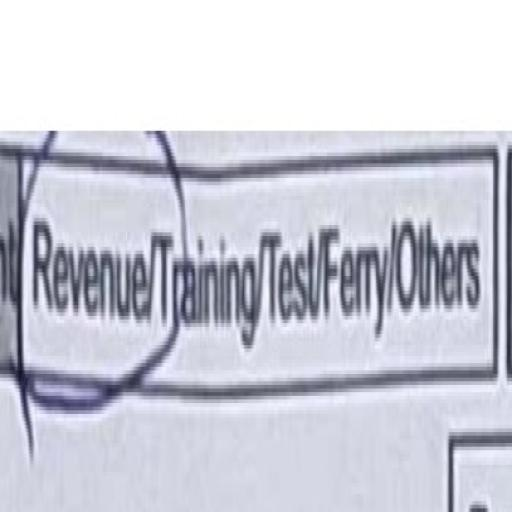check: (17, 41, 151, 502)
